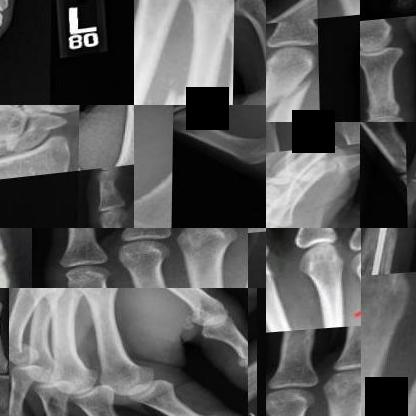fracture: (266, 70, 320, 122), (361, 228, 411, 279), (156, 71, 219, 104), (361, 354, 389, 415), (266, 152, 310, 171), (10, 339, 32, 365)
